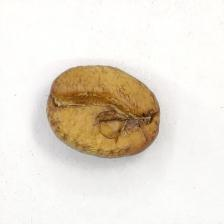NG: (52, 68, 150, 145)
